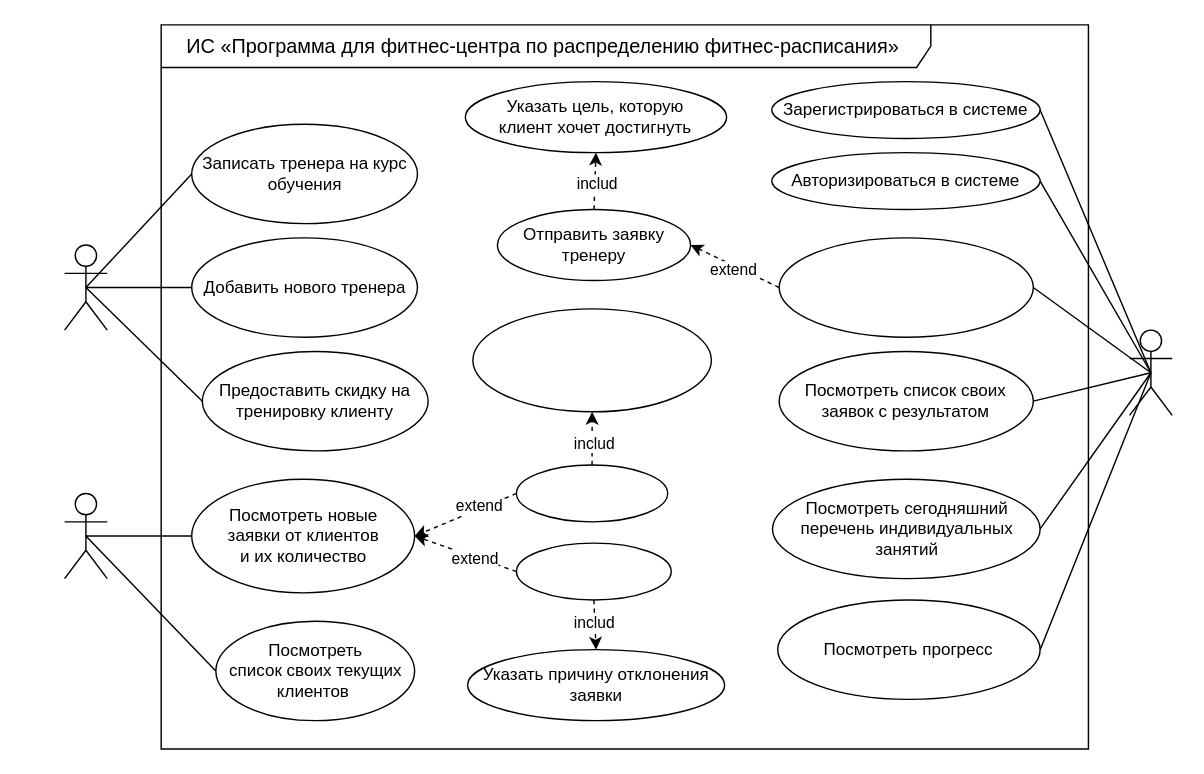
The diagram is 1204 pixels wide and 774 high, and some of its shapes have lost their labels. The shapes that lost their labels are listed below. From the top down, each one's centre as x and y in pixels, then its label:
At point (85, 287): "Администратор".
At point (905, 286): "Посмотреть список тренеров".
At point (591, 359): "Выставить план индивидуальных занятий для клиента".
At point (1150, 372): "Клиент".
At point (591, 493): "Принять заявку".
At point (85, 535): "Тренер".
At point (593, 571): "Отклонить заявку".
